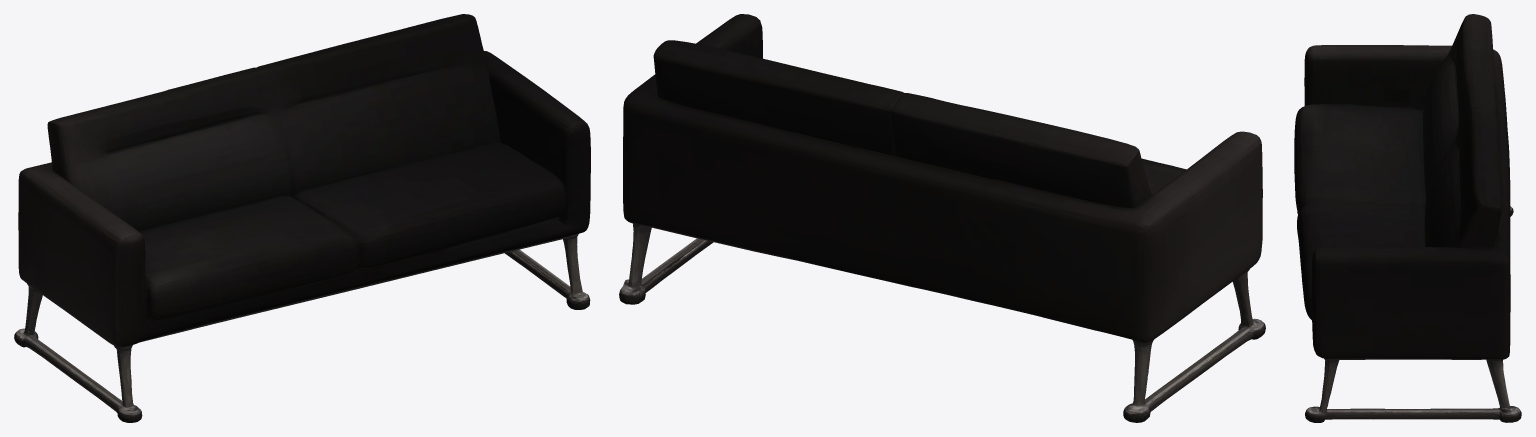
Rendered from sofa2.glb.
3 renders of one model, left to right at view 1: azimuth 30°, elevation 25°; view 2: azimuth 150°, elevation 25°; view 3: azimuth 270°, elevation 25°, orthographic. The views are drawn at different scales.
Visible parts, largest first — view 1: geometry_0; view 2: geometry_0; view 3: geometry_0.
Boxes of the visible parts, box(x1,y1,x2,y2) form: geometry_0: box(14, 14, 590, 422); geometry_0: box(619, 14, 1265, 422); geometry_0: box(1294, 14, 1521, 422).
Size of the model in its own units: 0.9972 by 0.4578 by 0.4452.
1 material, 1 textured.
